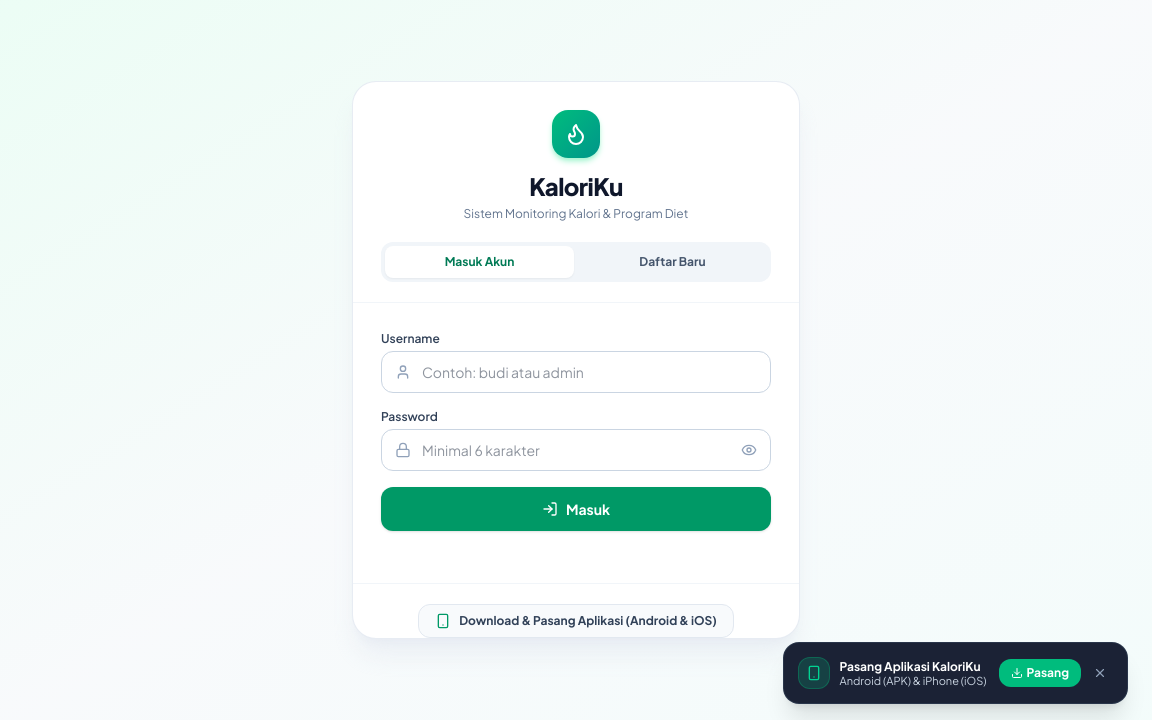
Scenario: KaloriKu UI flows › shows pending admin activation notice on register without auto-logging in
Click the button "Daftar Baru" at [672, 262], box x1=578 y1=246 x2=767 y2=278
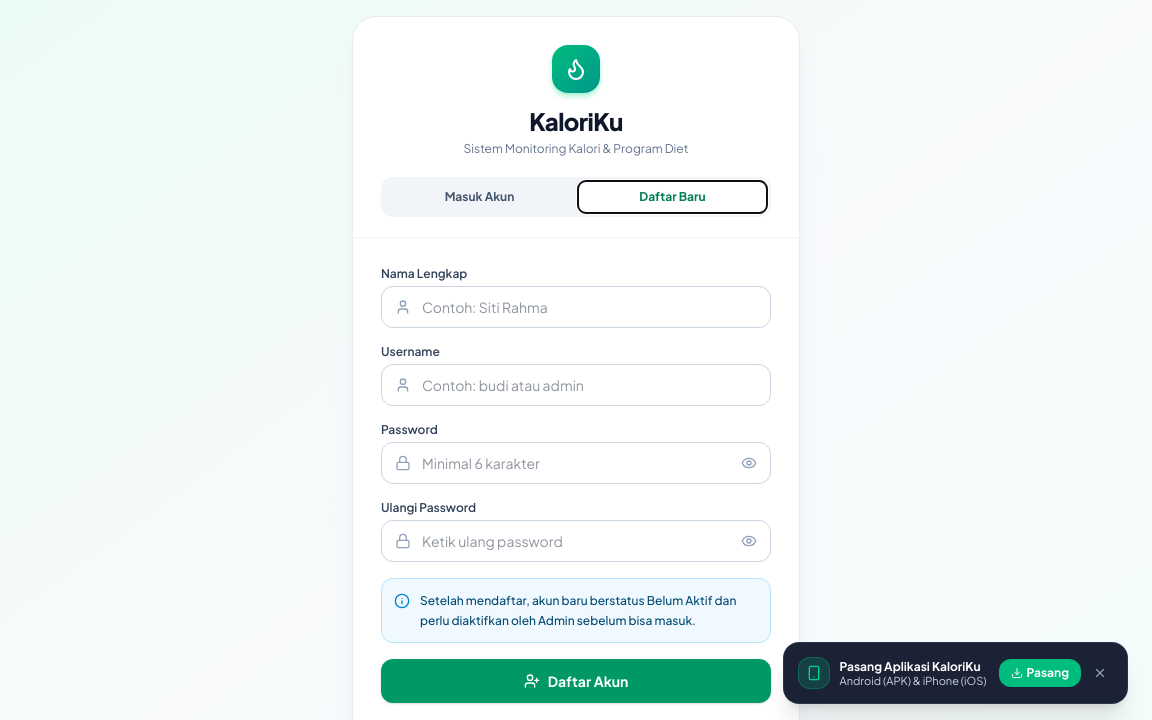
Expected: the text "berstatus Belum Aktif" is shown, x1=420 y1=593 x2=736 y2=628
Type "Siti Rahma" into the field labelled "Nama Lengkap" at [576, 307], box x1=381 y1=286 x2=771 y2=328
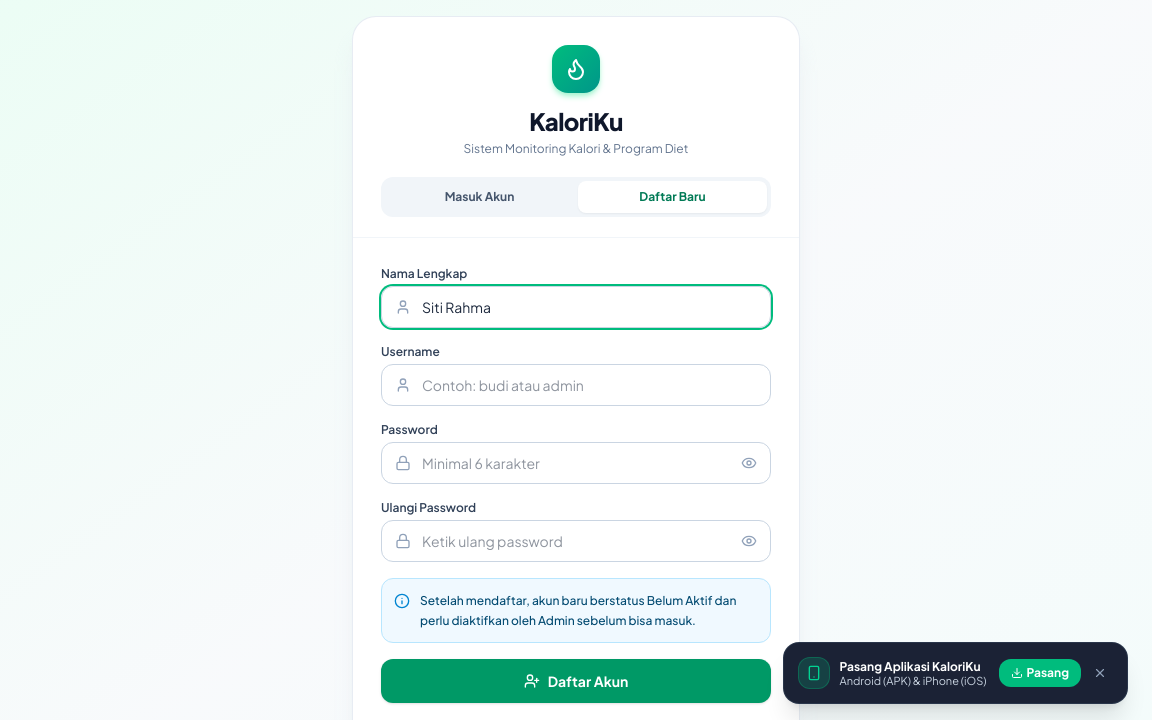
Type "siti" into the field labelled "Username" at [576, 385], box x1=381 y1=364 x2=771 y2=406
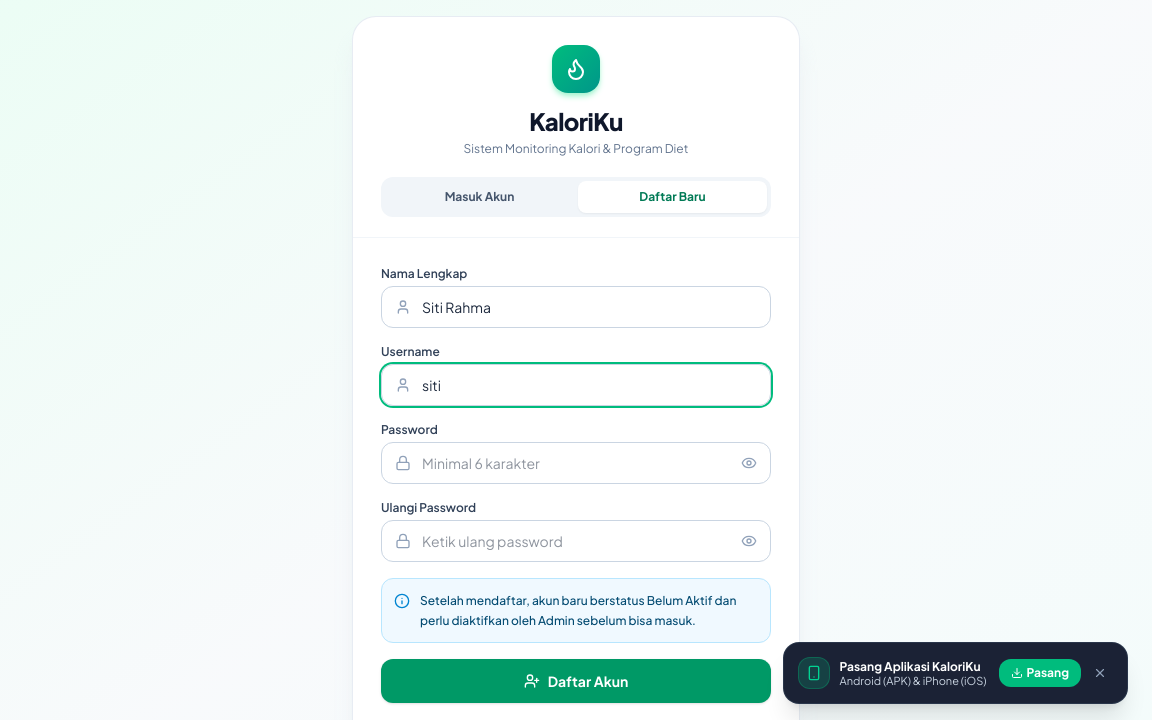
Type "rahasia123" into the password field labelled "Password" at [576, 463], box x1=381 y1=442 x2=771 y2=484
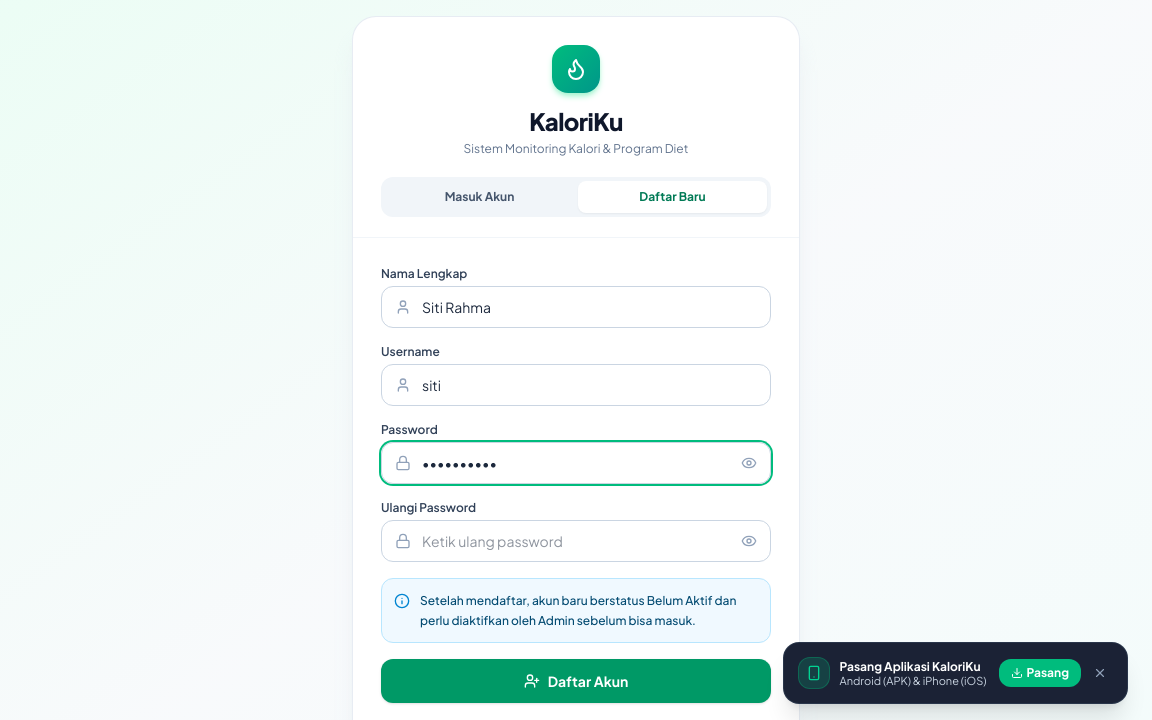
Type "rahasia123" into the password field labelled "Ulangi Password" at [576, 541], box x1=381 y1=520 x2=771 y2=562
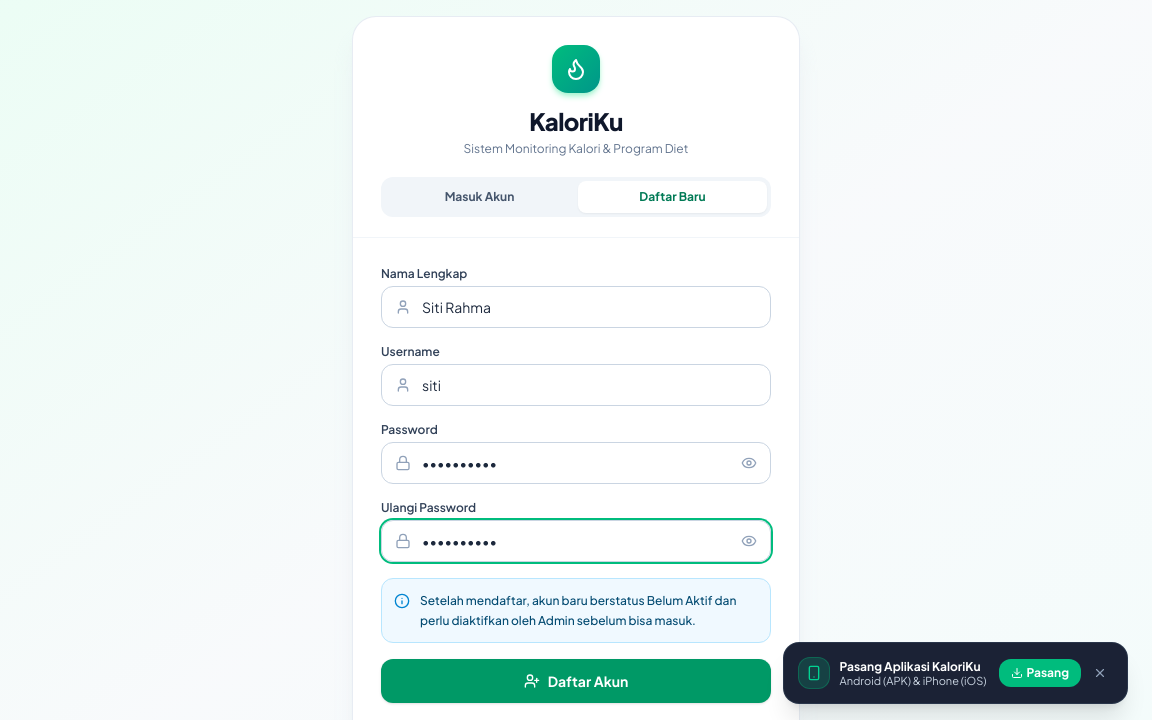
Click the button "Daftar Akun" at [576, 681], box x1=381 y1=659 x2=771 y2=703
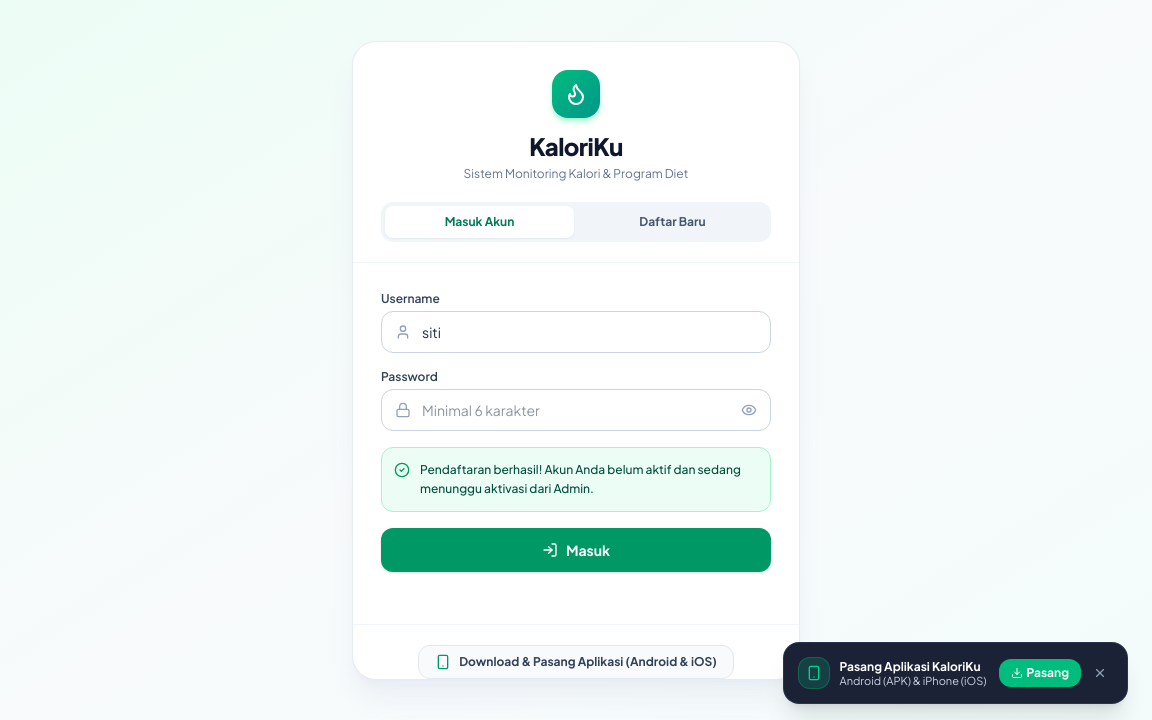
Expected: the text "menunggu aktivasi dari Admin" is shown, x1=420 y1=462 x2=741 y2=496
